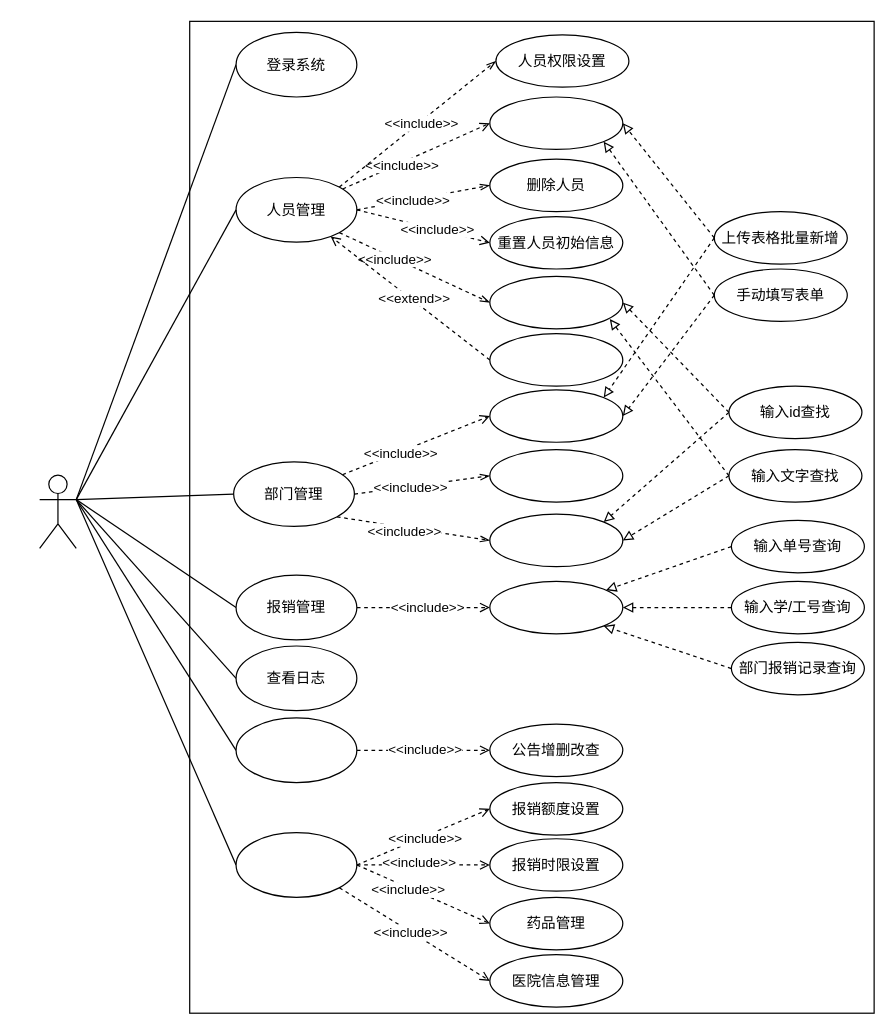
Image size: 895x1035. Some labels were removed from this diagram. The centre of each missing label's shape, as x and y in pixels:
修改人员所属部门: [556,359]
公告管理: [296,750]
删除部门: [556,475]
增加人员: [556,122]
增加部门: [556,415]
报销记录查找: [556,607]
查找人员: [556,302]
查找部门: [556,540]
系统管理员: [57,511]
系统设置: [296,864]
